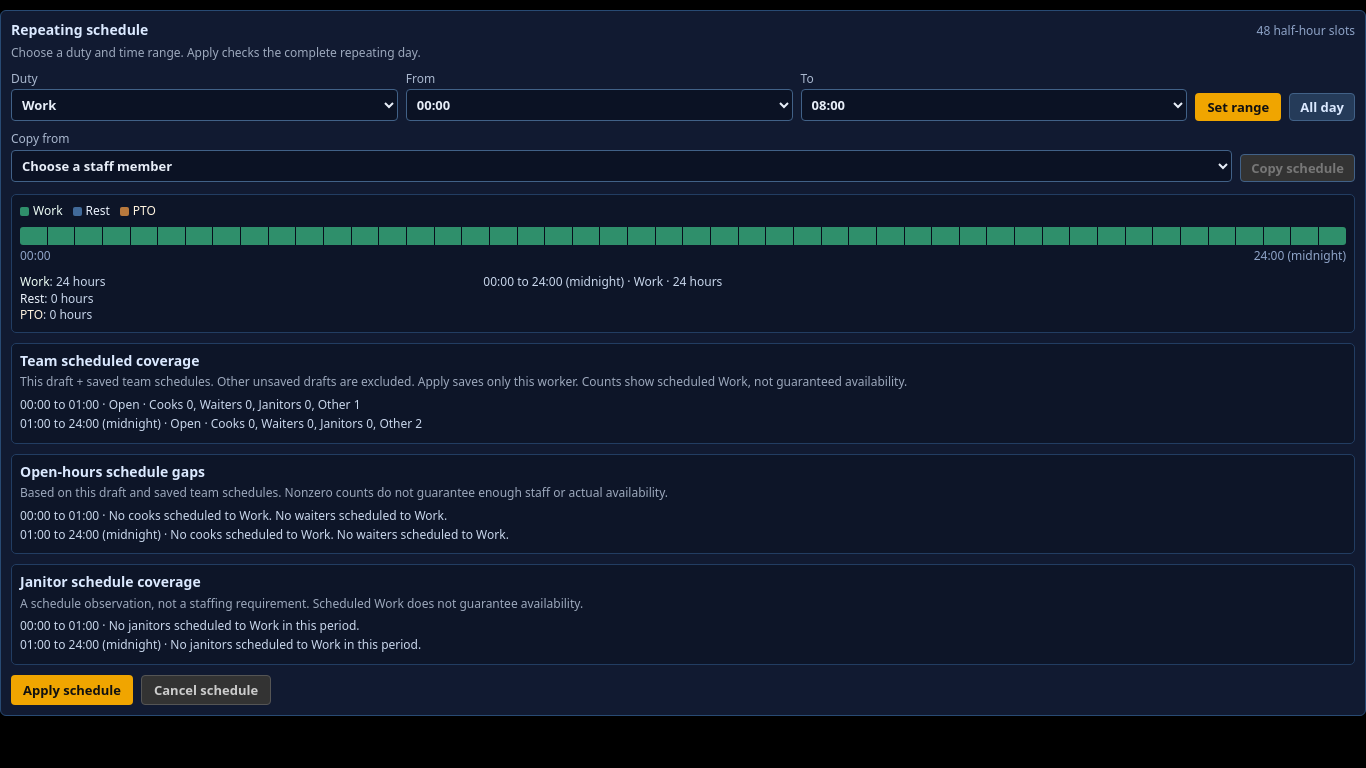
Test case: StaffScheduleEditor › copies another employee schedule into the draft without applying or mutating the source
expect the button "Copy schedule" is disabled: met, box top-left (1240, 154), bottom-right (1355, 182)
Select "Anna" in the dropdown labelled "Copy from" at (622,166), box top-left (11, 150), bottom-right (1232, 182)
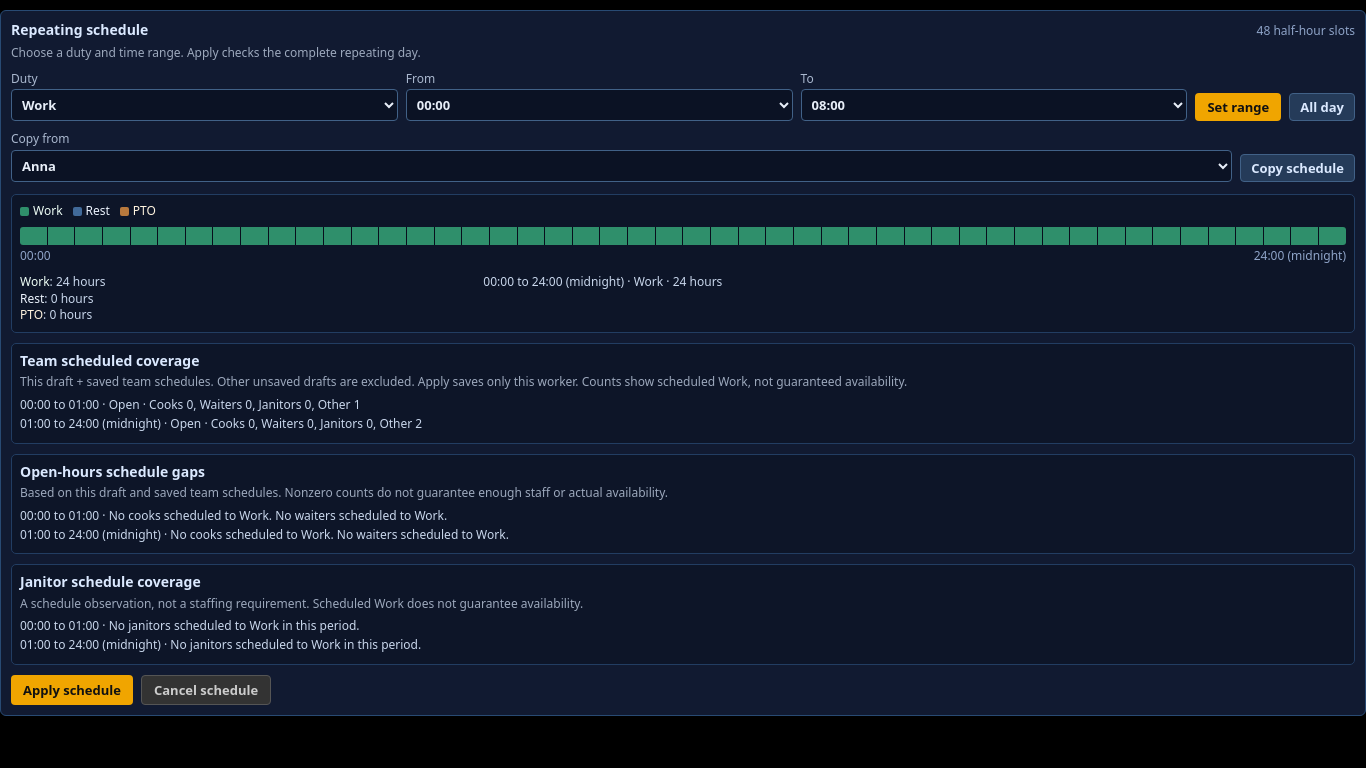
expect the button "Copy schedule" is enabled: met
Click the button "Copy schedule" at (1298,168), box top-left (1240, 154), bottom-right (1355, 182)
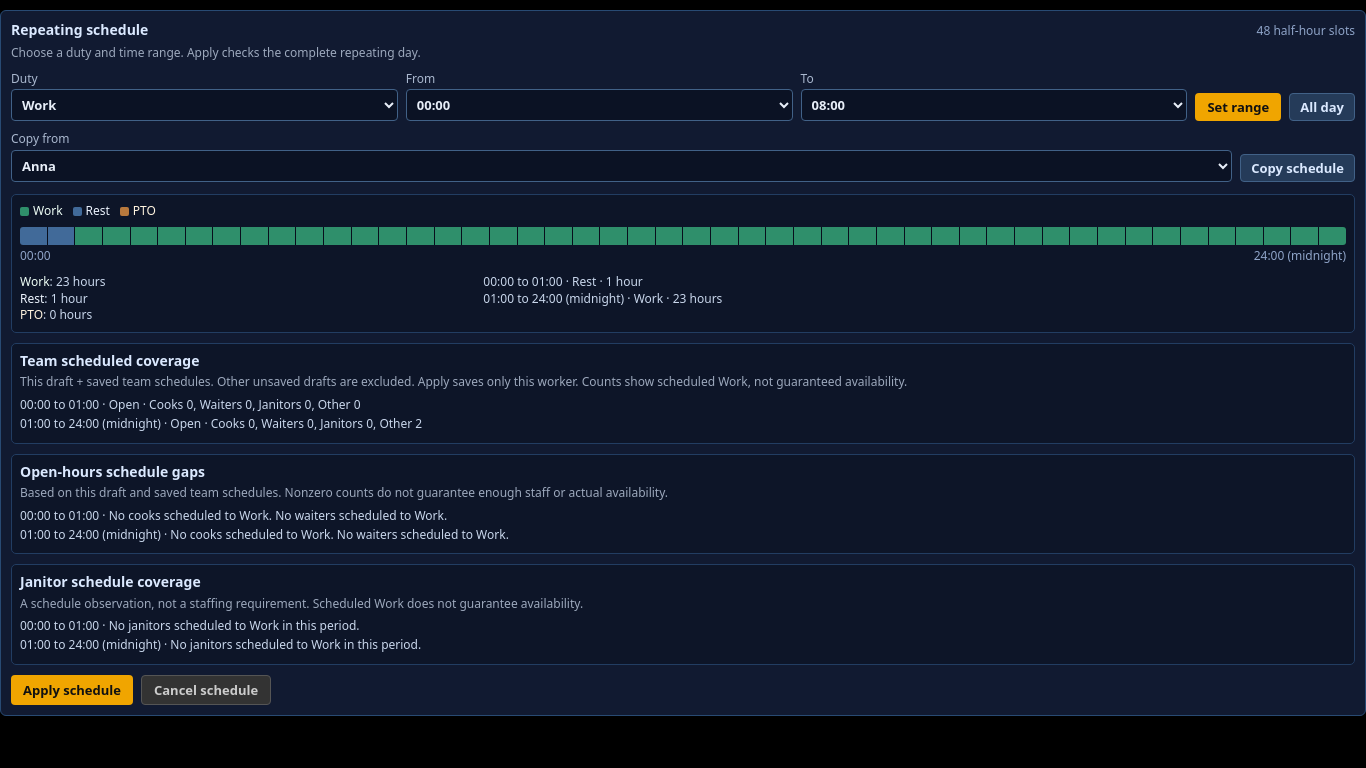
expect the list named "Schedule totals" reads "Work: 23 hours Rest: 1 hour PTO: 0 hours": met, box top-left (20, 273), bottom-right (106, 323)
